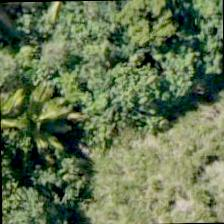Kelapa_Sawit: (0, 76, 73, 168)
